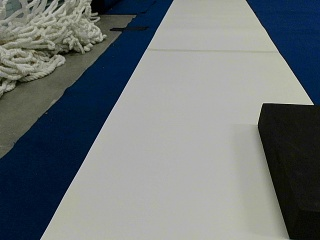block: (259, 102, 319, 238)
